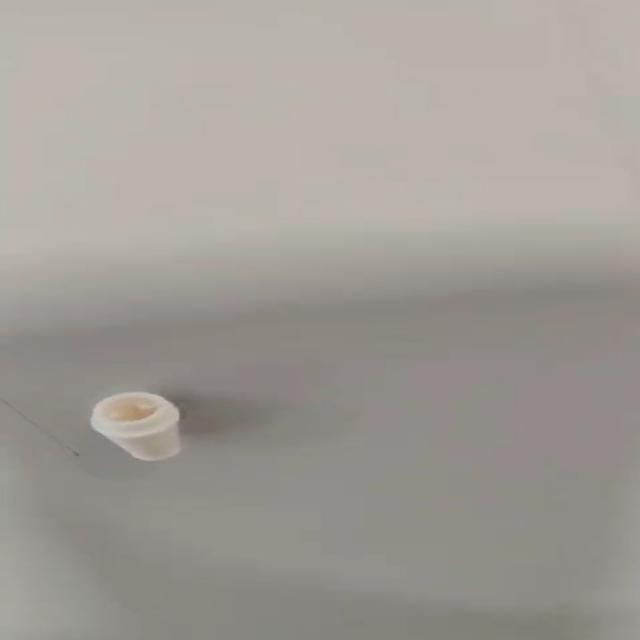Z1x1x1: (87, 390, 185, 464)
